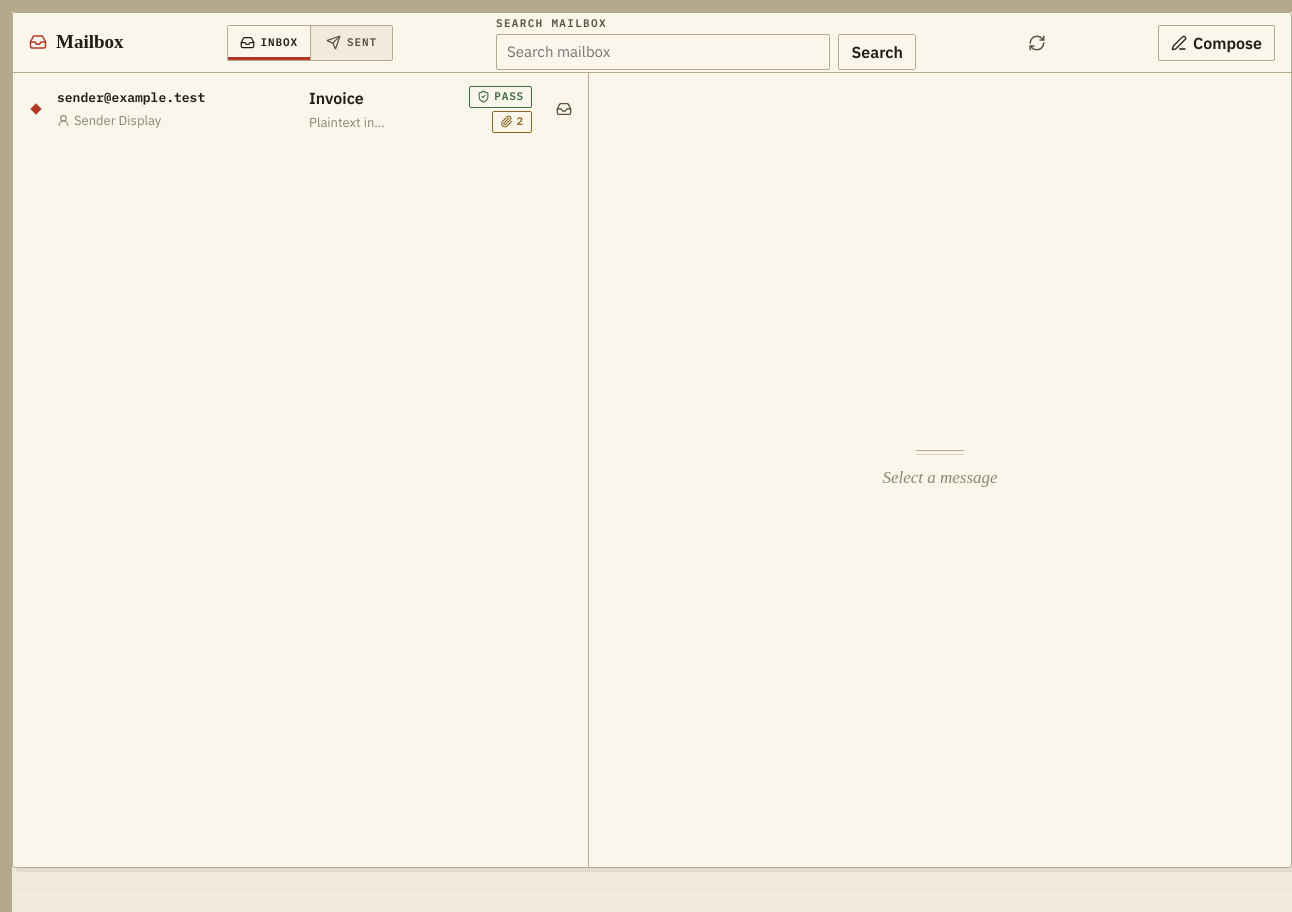
Scenario: MailboxView › renders thread detail as inert plaintext with auth and attachment metadata
The width and height of the screenshot is (1292, 912).
Click the button "sender@example.test". click: [131, 98]
box: [13,73,546,145]
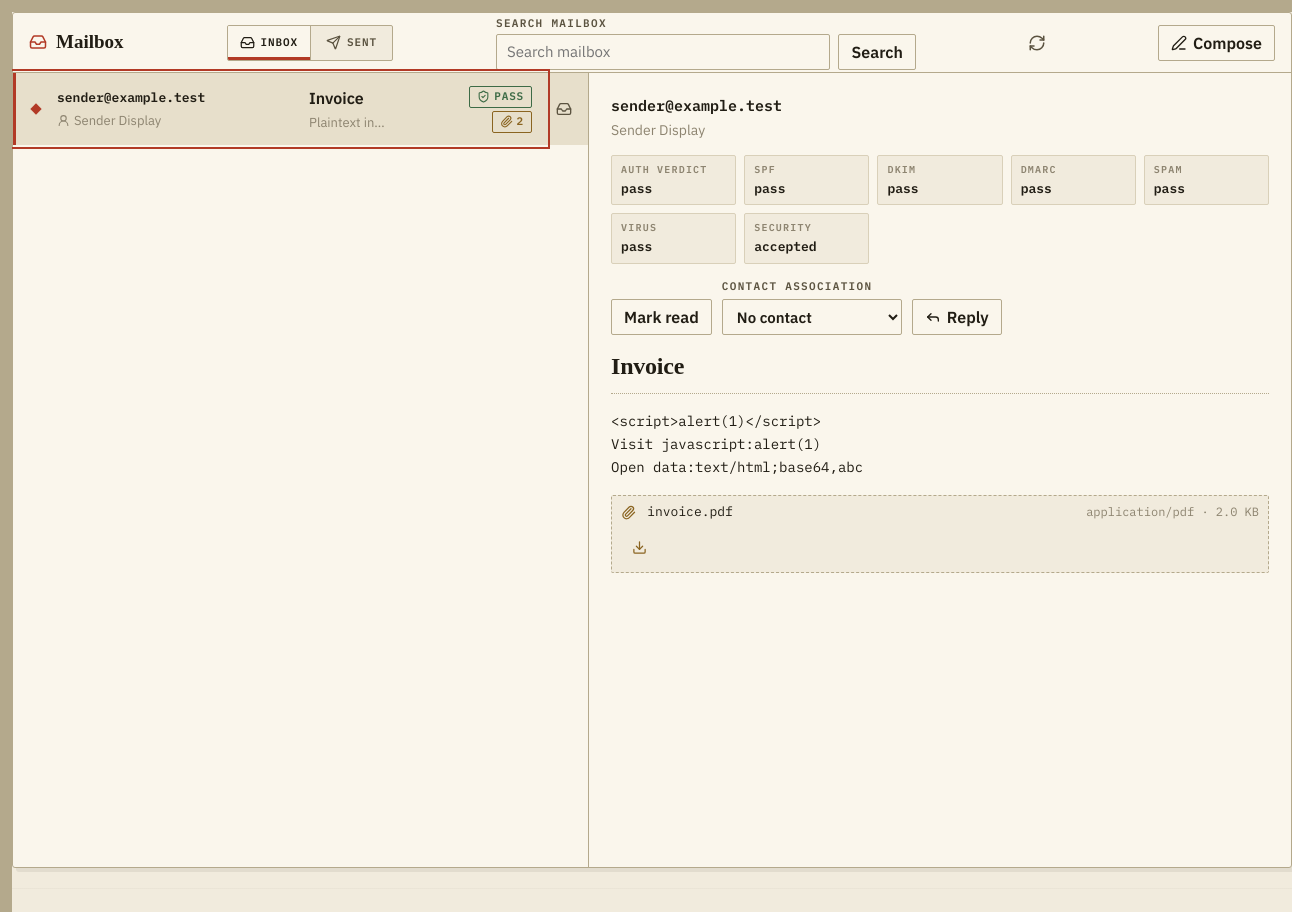
Now the text "Auth verdict" is shown, box [621,162,708,176]
Now the text "data:text/html" is shown, box [611,412,863,476]
Now the text "invoice.pdf" is shown, box [647,503,733,520]
